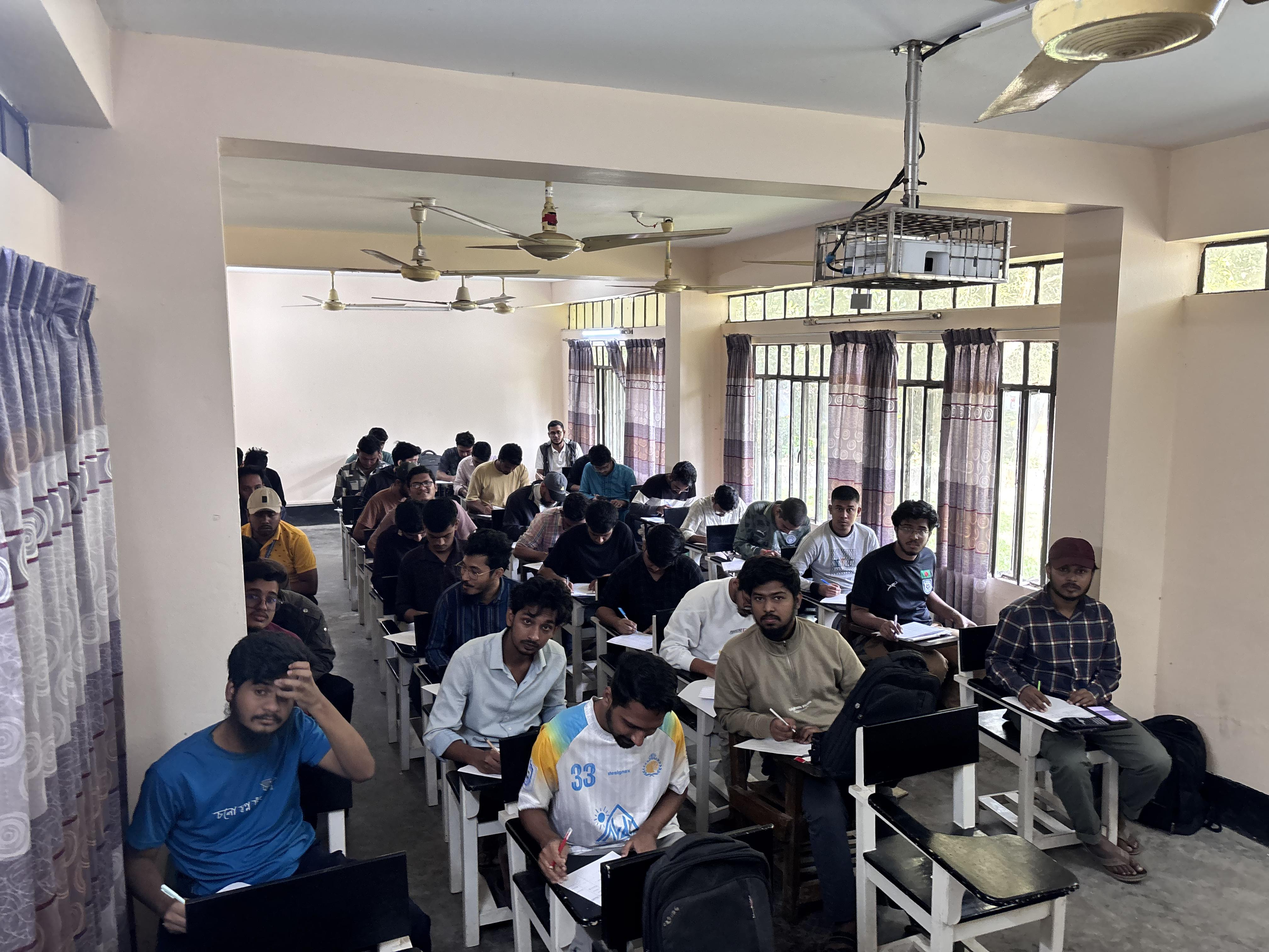copying: (390, 437, 426, 470)
no_cheating: (107, 622, 343, 922), (552, 652, 688, 915), (724, 556, 842, 762), (869, 493, 982, 696), (441, 592, 573, 765), (809, 477, 878, 587), (623, 523, 695, 625), (562, 500, 632, 598), (741, 486, 817, 567), (239, 481, 304, 574), (242, 562, 301, 656), (478, 440, 537, 516), (415, 499, 470, 573), (636, 458, 705, 515), (577, 435, 629, 504), (340, 431, 390, 500), (508, 471, 574, 523), (443, 423, 488, 489), (539, 414, 584, 478), (695, 482, 750, 534), (404, 467, 445, 501)
side_talking: (445, 530, 510, 641)
using_phone: (1007, 524, 1146, 751)
